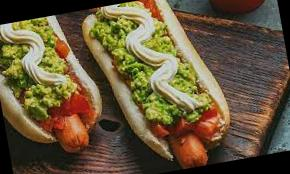Completos: (96, 0, 235, 173), (0, 9, 106, 166)
